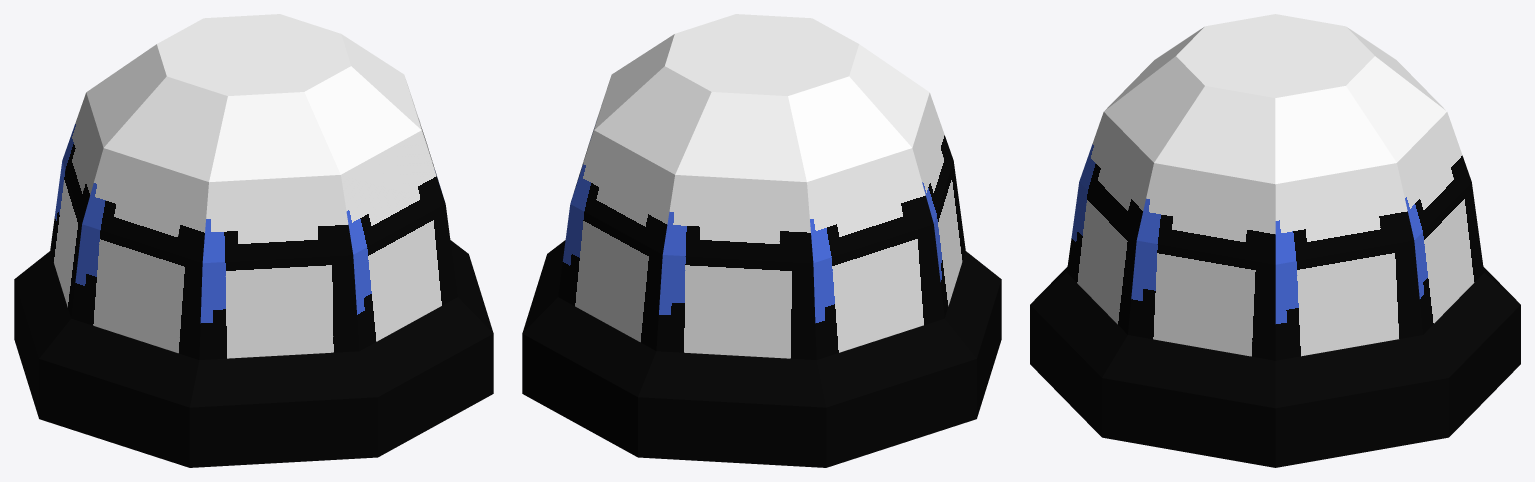
Rendered from lamp_bubble.obj.
3 renders of one model, left to right at view 1: azimuth 30°, elevation 25°; view 2: azimuth 150°, elevation 25°; view 3: azimuth 270°, elevation 25°, orthographic.
Parts seen in each view (by area): view 1: Cylinder; view 2: Cylinder; view 3: Cylinder.
Part boxes in pixels (left/top/right/bottom): Cylinder: left=14, top=14, right=493, bottom=467; Cylinder: left=522, top=14, right=1001, bottom=467; Cylinder: left=1030, top=14, right=1520, bottom=467.
Bounding box in the file's own units: 1 × 0.693 × 1.
